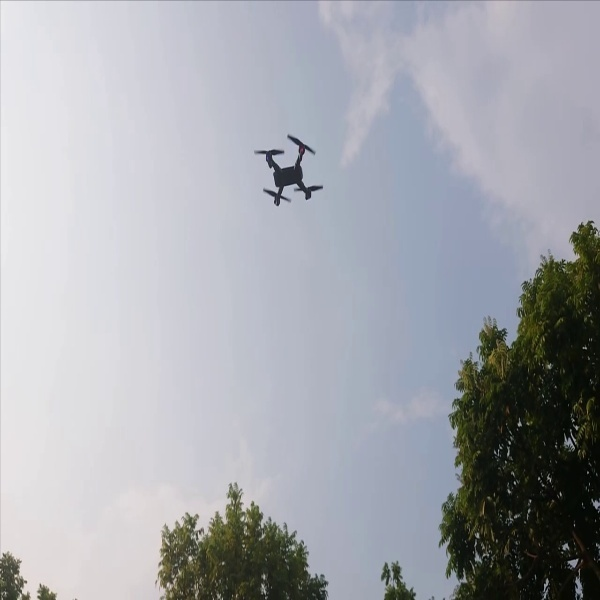drone: (249, 127, 328, 219)
